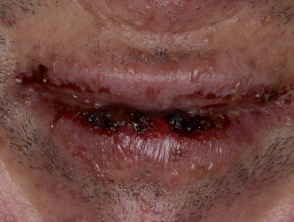SJS-TEN: (6, 37, 294, 200)
